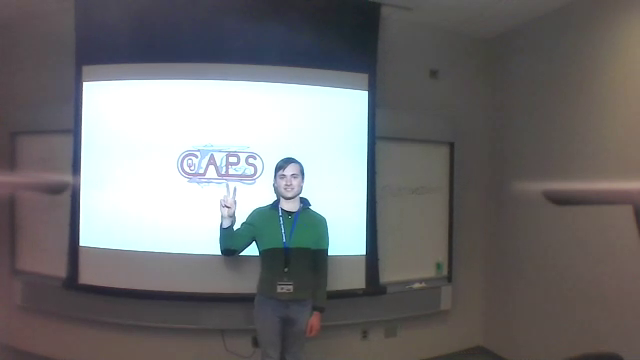peace: (216, 181, 246, 215)
